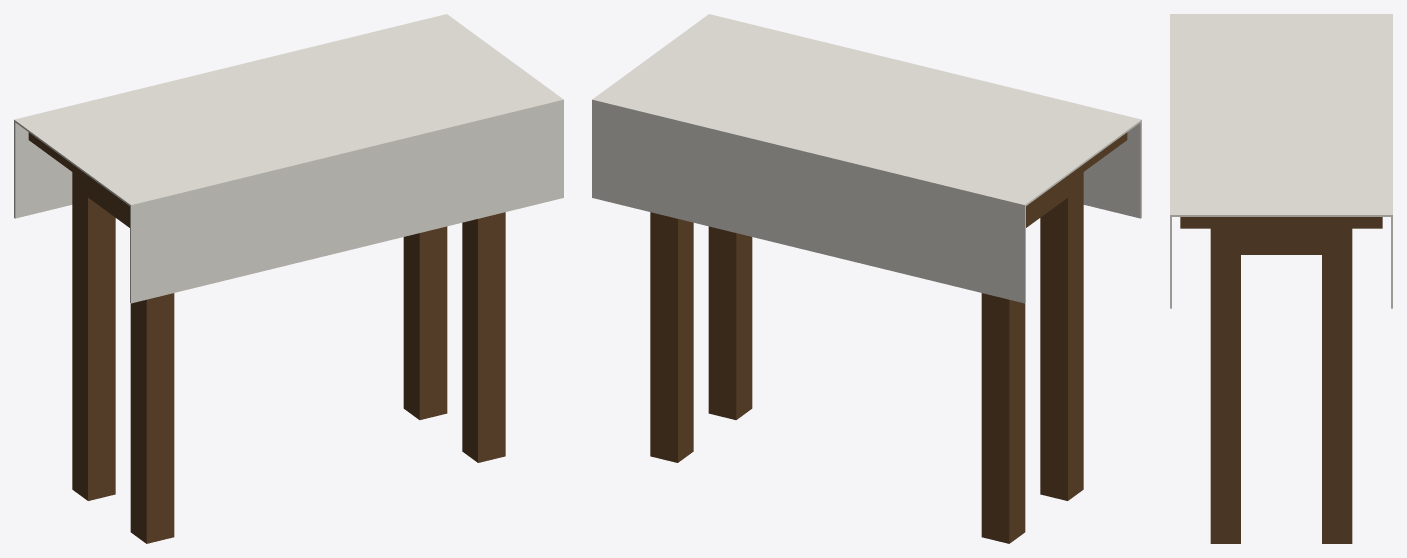
3 renders of one model, left to right at view 1: azimuth 30°, elevation 25°; view 2: azimuth 150°, elevation 25°; view 3: azimuth 270°, elevation 25°, orthographic. The views are drawn at different scales.
Visible parts, largest first — view 1: parametric-variant-table-1st-pub-7509a20601b0d419a1ad; view 2: parametric-variant-table-1st-pub-7509a20601b0d419a1ad; view 3: parametric-variant-table-1st-pub-7509a20601b0d419a1ad.
Part boxes in pixels (box(x1,y1,x2,y2)): parametric-variant-table-1st-pub-7509a20601b0d419a1ad: box(14, 14, 563, 543); parametric-variant-table-1st-pub-7509a20601b0d419a1ad: box(592, 14, 1141, 543); parametric-variant-table-1st-pub-7509a20601b0d419a1ad: box(1170, 14, 1392, 543).
Size of the model in its own units: 0.94 by 0.754 by 0.44.
